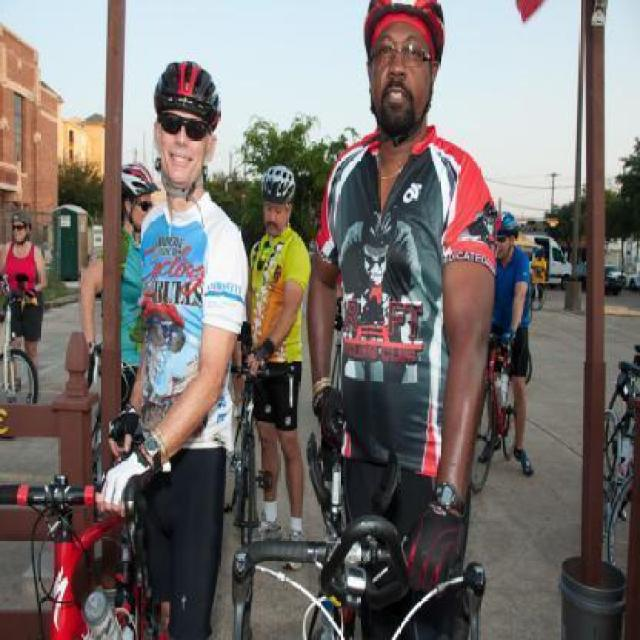face_nomask: (153, 109, 212, 173), (376, 39, 426, 110), (262, 199, 286, 232), (10, 224, 25, 242)
glasses: (155, 108, 213, 146), (373, 41, 432, 70), (10, 222, 25, 232)
hand_glove: (398, 498, 462, 593), (95, 445, 147, 518), (104, 404, 145, 462), (310, 388, 350, 447), (245, 342, 266, 375)
head_helmet: (149, 54, 225, 124), (356, 0, 452, 42), (256, 165, 301, 202), (8, 204, 32, 225)
person: (325, 0, 497, 640), (115, 60, 243, 640), (244, 162, 314, 546), (0, 208, 52, 399)
